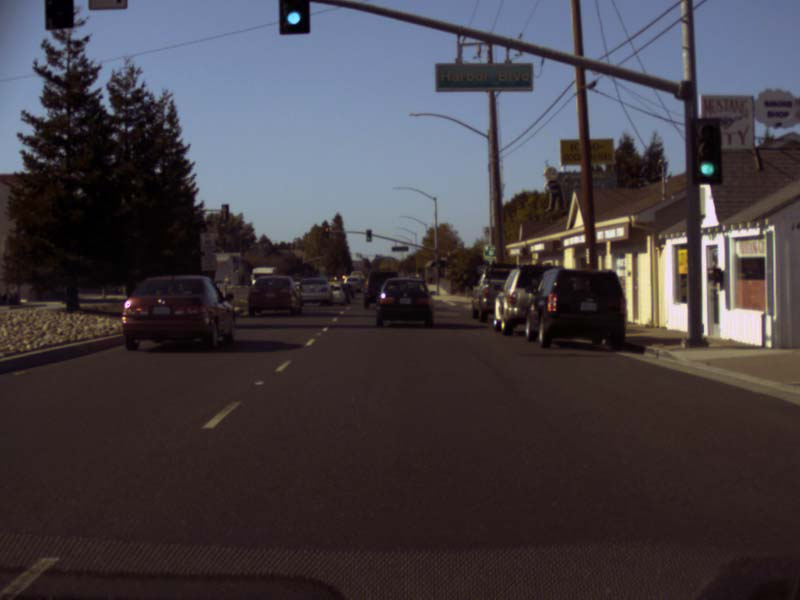Green: (690, 118, 720, 185), (365, 229, 372, 241)
Red: (324, 226, 328, 239)
